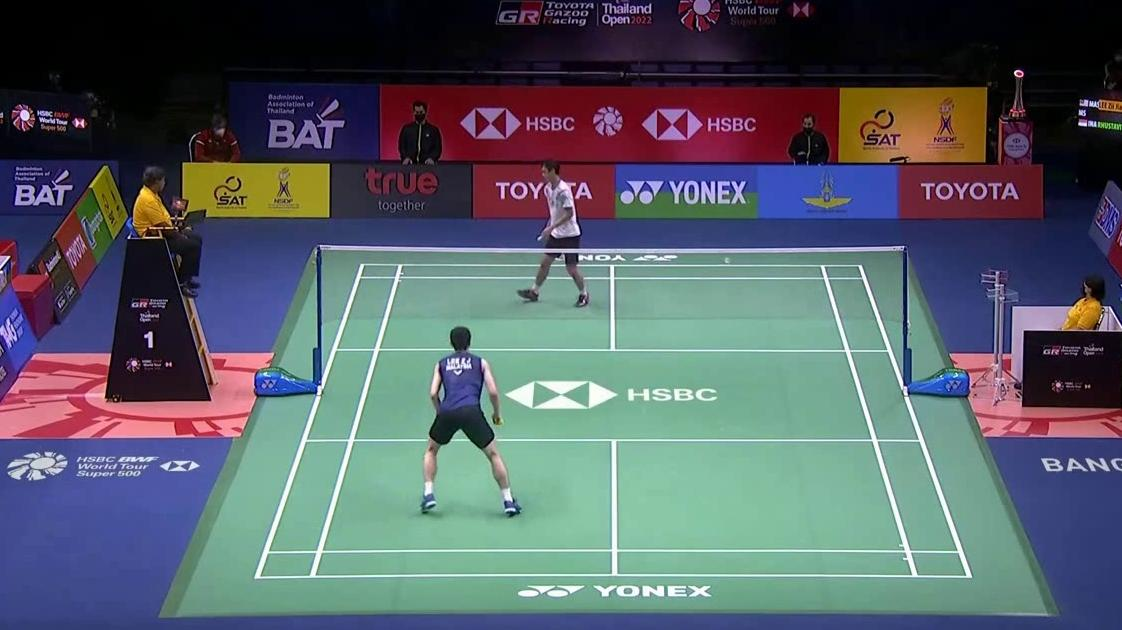racket: (499, 235, 541, 270), (491, 415, 505, 434)
shuttle: (721, 253, 734, 266)
